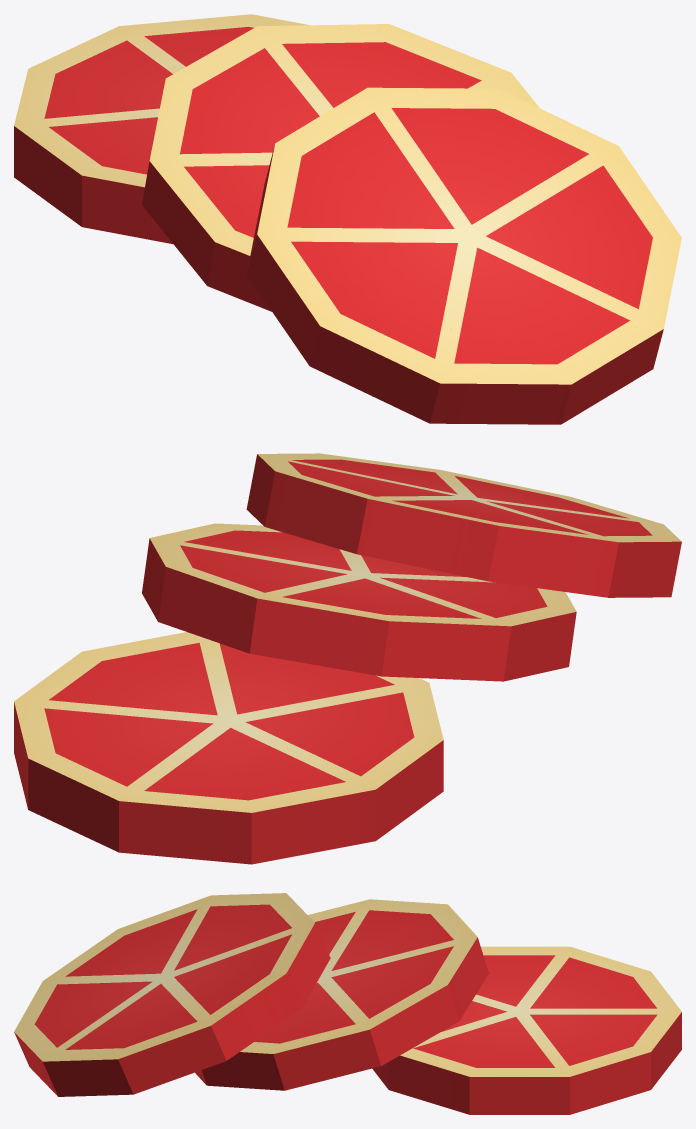
The model's file is Grapefruit Slice.fbx.
The picture shows the model from 3 angles, top to bottom: view 1: azimuth 30°, elevation 25°; view 2: azimuth 150°, elevation 25°; view 3: azimuth 270°, elevation 25°; orthographic projection. The views are drawn at different scales.
Visible parts, largest first — view 1: Grapefruit Slice.002, Grapefruit Slice.001, Grapefruit Slice; view 2: Grapefruit Slice, Grapefruit Slice.001, Grapefruit Slice.002; view 3: Grapefruit Slice.002, Grapefruit Slice, Grapefruit Slice.001.
Boxes of the visible parts, box(x1,y1,x2,y2) form: Grapefruit Slice.002: box(246, 87, 681, 424); Grapefruit Slice.001: box(142, 24, 539, 311); Grapefruit Slice: box(14, 14, 309, 243); Grapefruit Slice: box(14, 632, 443, 864); Grapefruit Slice.001: box(142, 523, 576, 681); Grapefruit Slice.002: box(246, 453, 681, 597); Grapefruit Slice.002: box(14, 893, 330, 1096); Grapefruit Slice: box(372, 946, 681, 1114); Grapefruit Slice.001: box(195, 899, 488, 1090).
Bounding box in the file's own units: 11.49 × 5.93 × 24.89.
